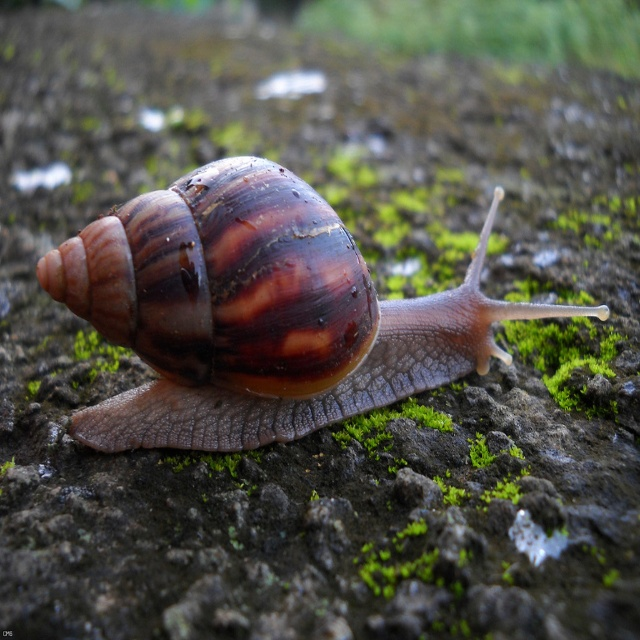Snail: (32, 154, 612, 452)
